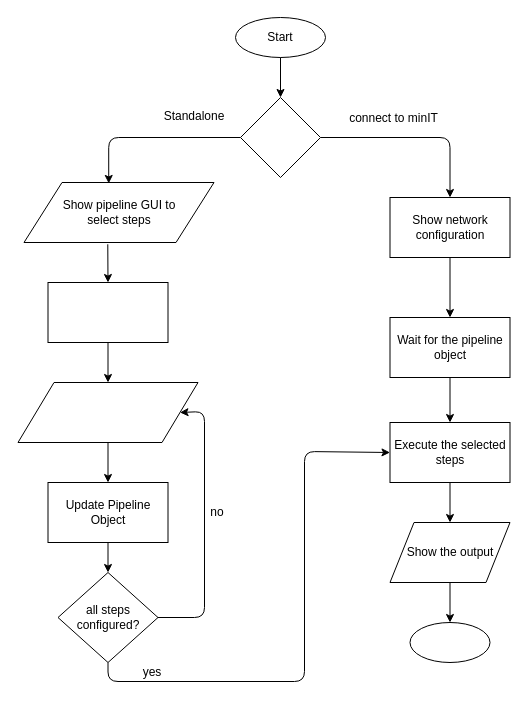
This 527x707 diagram has some shape labels left out. The box of each missing label's shape, as (x1, y1, x2, y2) in pixels:
Create Pipeline Object: (47, 282, 168, 342)
mode?: (240, 96, 320, 178)
Show configuration for step: (17, 382, 198, 442)
Stop: (409, 622, 490, 662)
